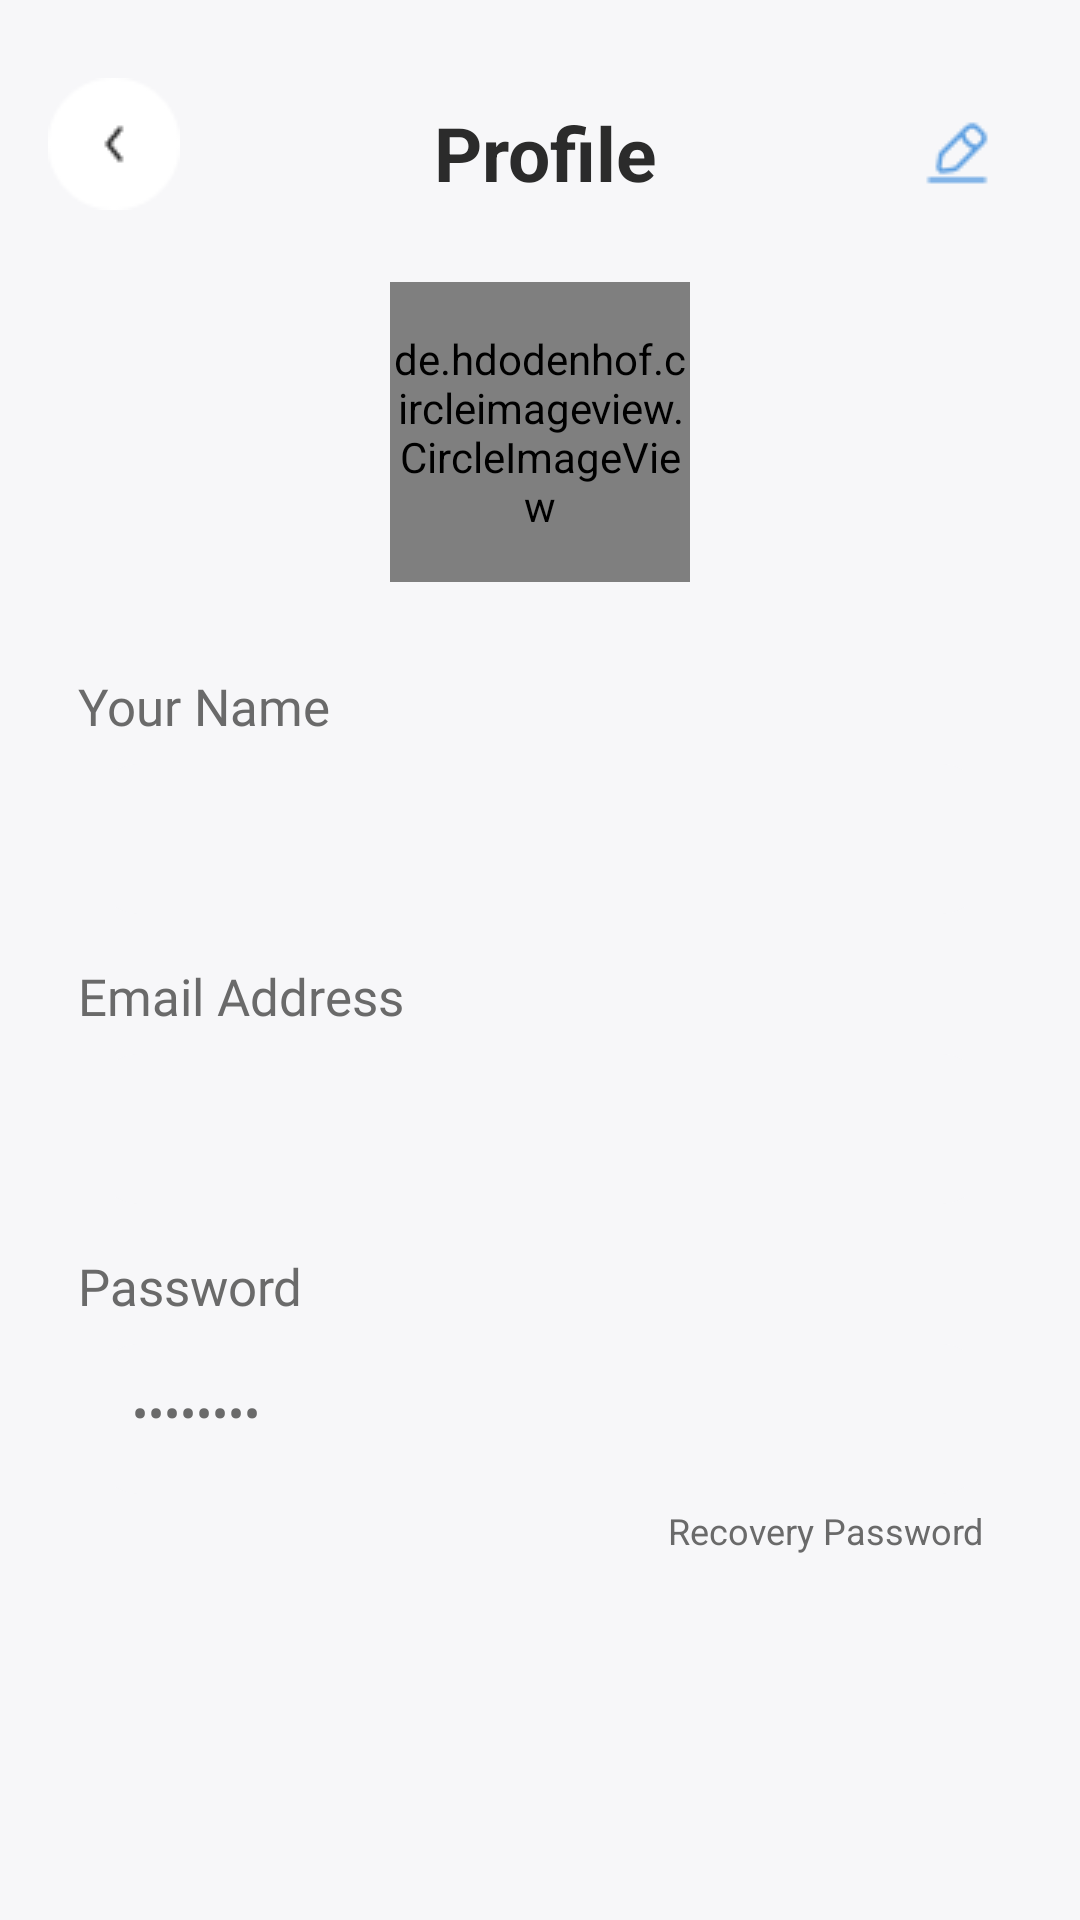

Point at icon controls on the screen. Image size 1080w x 1920h, points as (x,y).
back: (114,144)
edit profile: (957,153)
